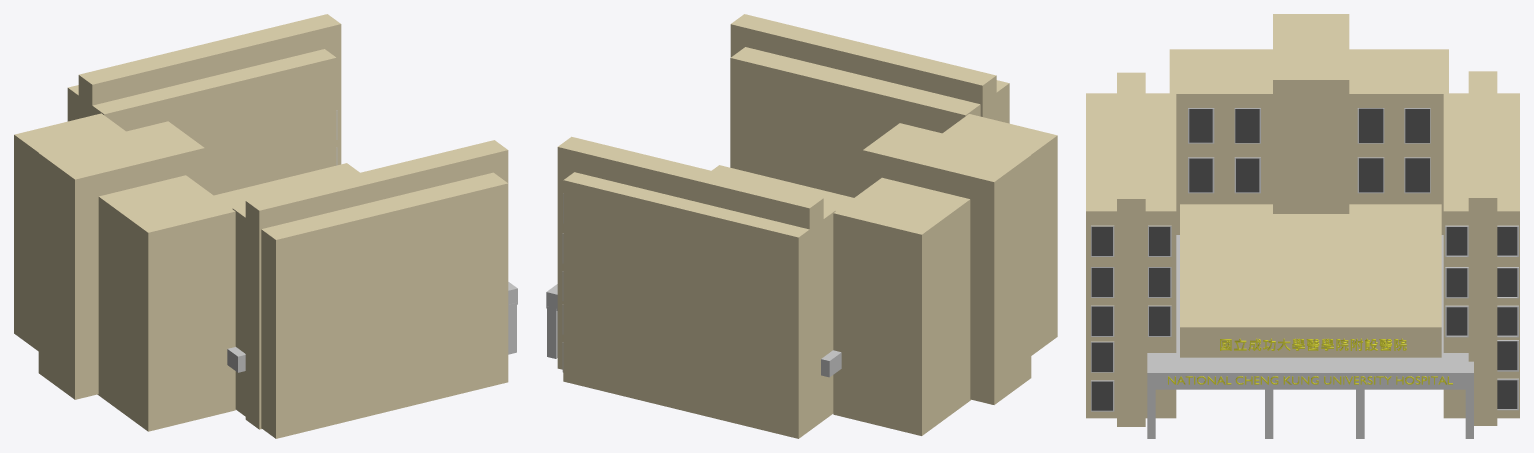
3 views of the same model, side by side, from view 1: azimuth 30°, elevation 25°; view 2: azimuth 150°, elevation 25°; view 3: azimuth 270°, elevation 25° (orthographic). The views are drawn at different scales.
Parts seen in each view (by area): view 1: 立方體.003, 立方體, 立方體.004; view 2: 立方體.003, 立方體, 立方體.004; view 3: 立方體.003, 立方體, 立方體.004, 文字, 文字.001, 立方體.039, 立方體.036, 立方體.038, 立方體.033, 立方體.037, 立方體.034, 立方體.035 (+17 smaller).
Boxes of the visible parts, <box> form: 立方體.003: <box>14,14,508,438</box>; 立方體: <box>214,163,359,208</box>; 立方體.004: <box>227,282,517,372</box>; 立方體.003: <box>557,14,1057,438</box>; 立方體: <box>711,165,853,210</box>; 立方體.004: <box>546,284,841,377</box>; 立方體.003: <box>1086,14,1519,426</box>; 立方體: <box>1180,204,1441,357</box>; 立方體.004: <box>1147,235,1473,438</box>; 文字: <box>1220,338,1406,350</box>; 文字.001: <box>1168,376,1452,384</box>; 立方體.039: <box>1405,158,1429,192</box>; 立方體.036: <box>1359,108,1383,142</box>; 立方體.038: <box>1359,158,1383,192</box>; 立方體.033: <box>1235,109,1259,142</box>; 立方體.037: <box>1405,109,1429,142</box>; 立方體.034: <box>1189,158,1212,192</box>; 立方體.035: <box>1236,158,1259,192</box>.
Bounding box in the file's own units: 2528 × 1397 × 2378.
